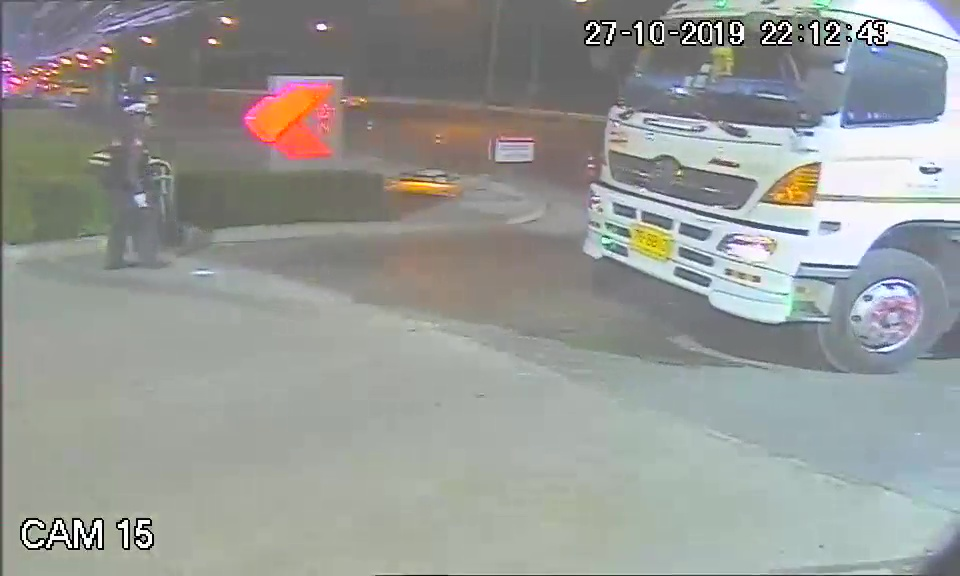truck: (583, 2, 960, 381)
